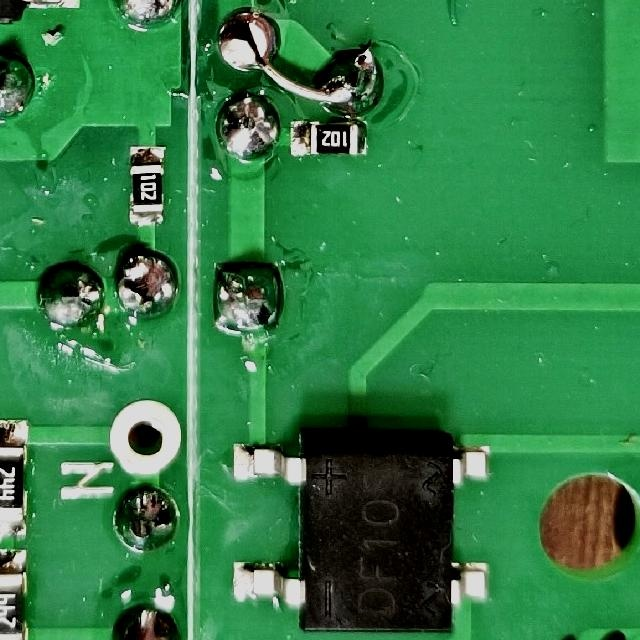chip-resistor: (0, 416, 30, 540), (286, 117, 370, 160), (128, 143, 167, 229), (0, 547, 29, 640)
ic: (224, 428, 493, 640)
